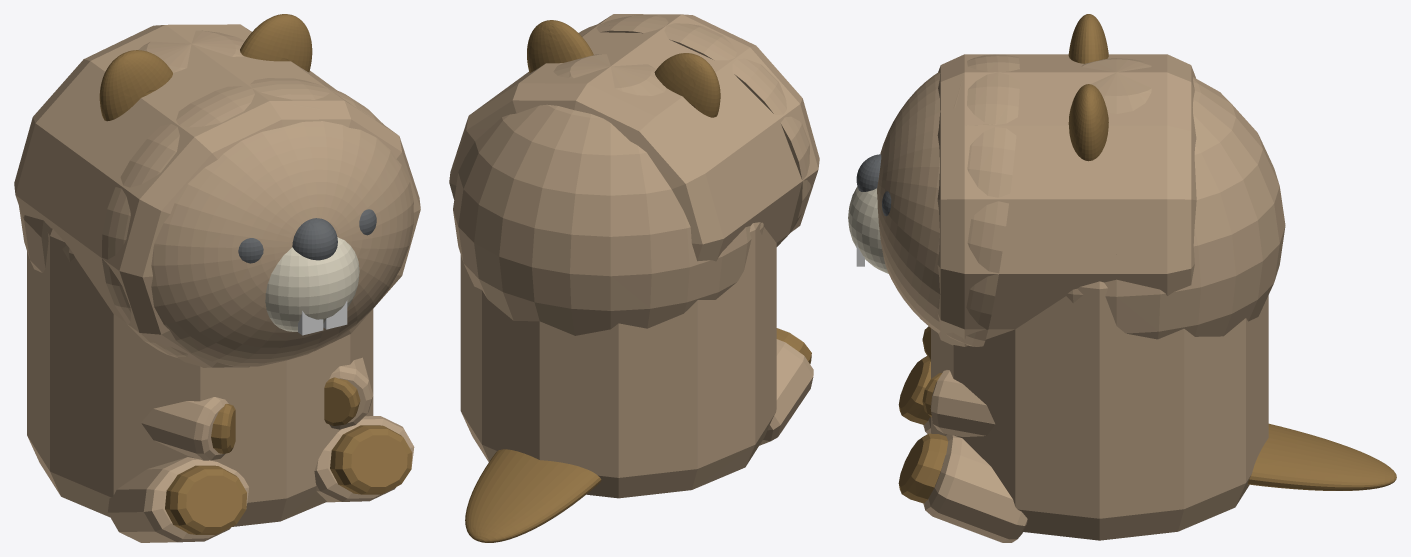
Rendered from bob_1.glb.
3 views of the same model, side by side, from view 1: azimuth 30°, elevation 25°; view 2: azimuth 150°, elevation 25°; view 3: azimuth 270°, elevation 25° (orthographic). The views are drawn at different scales.
Visible parts, largest first — view 1: Mesh_Mesh_head_geo.001_lambert2SG.001; view 2: Mesh_Mesh_head_geo.001_lambert2SG.001; view 3: Mesh_Mesh_head_geo.001_lambert2SG.001.
Part boxes in pixels (<box>): Mesh_Mesh_head_geo.001_lambert2SG.001: <box>14,14,420,542</box>; Mesh_Mesh_head_geo.001_lambert2SG.001: <box>449,14,819,542</box>; Mesh_Mesh_head_geo.001_lambert2SG.001: <box>848,14,1396,542</box>.
Size of the model in its own units: 20 by 29.03 by 32.5.
